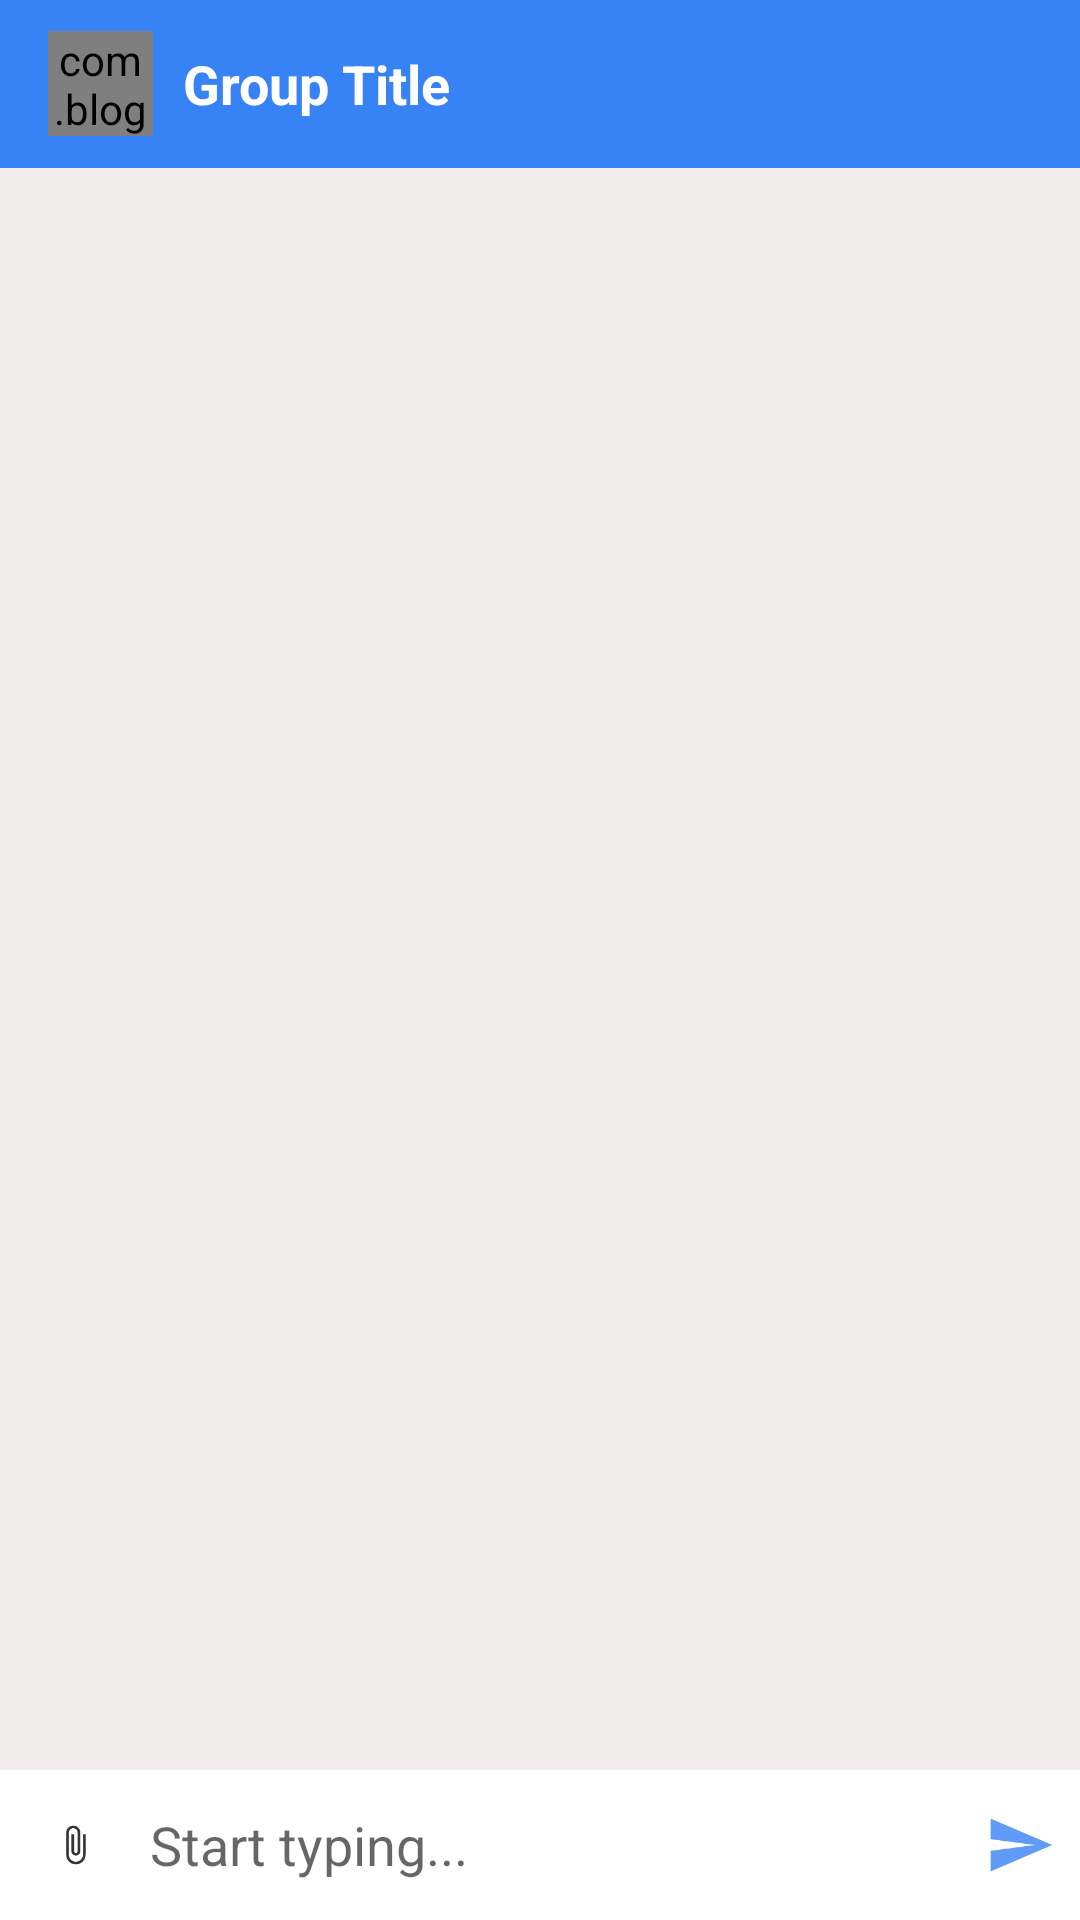

Icon bounding boxes for this 1080 x 1920 phone screenshot, format (x1, y1, x2, y2):
attach: (66, 1825, 86, 1865)
send: (990, 1819, 1052, 1871)
